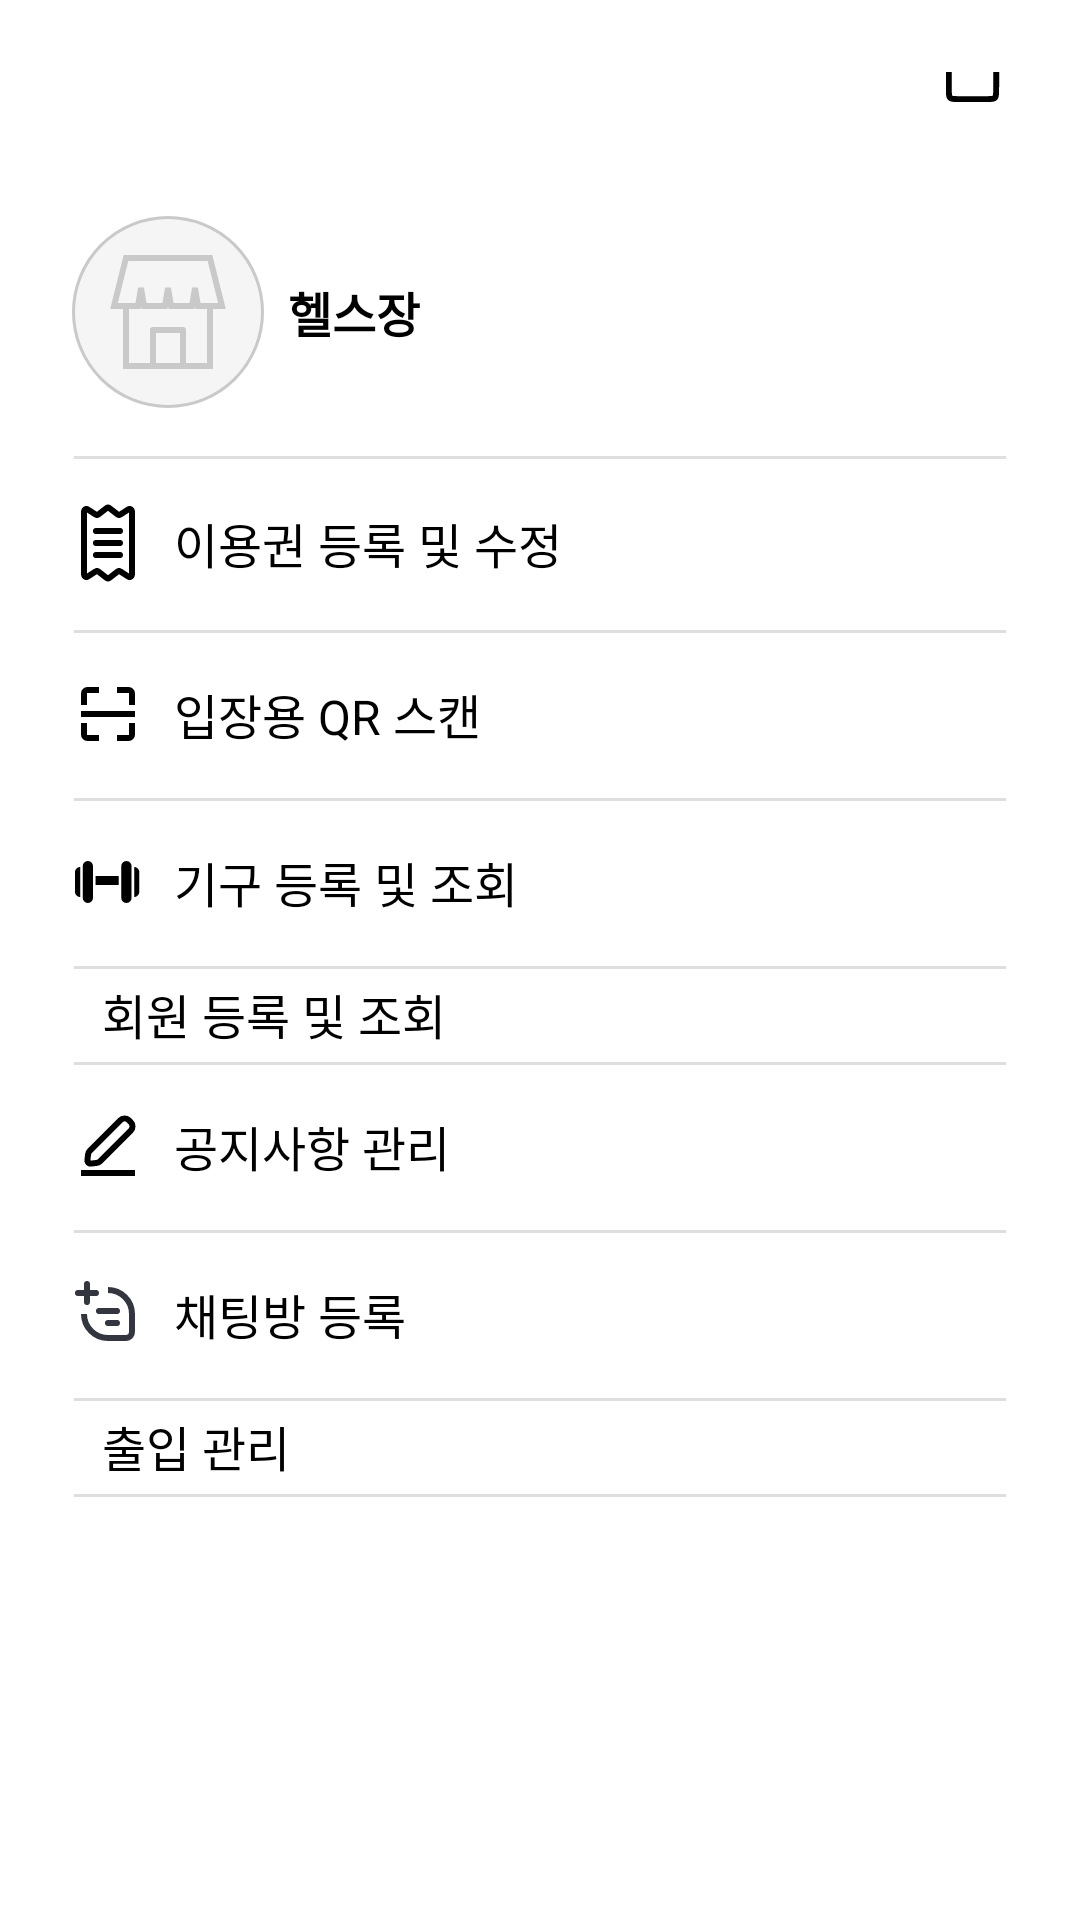

Screen size 1080 x 1920. Icon name, then its center in pixels as (x,y):
chat: (105,1311)
machine: (107,882)
ticket: (108,543)
